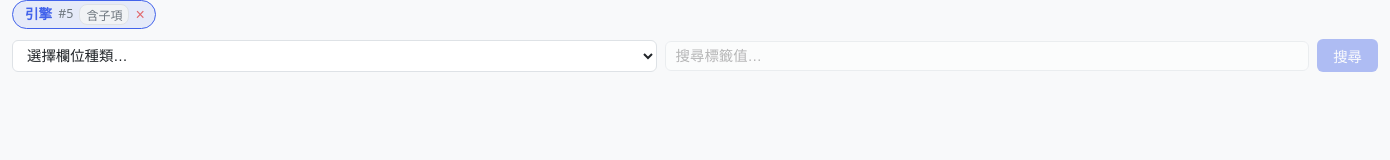
Test: SearchFilterBar › prevents adding exact duplicate filter
Later steps or results of the test are not shown.
Select "引擎" in the dropdown named "選擇欄位種類" at (334, 56), box 12,40 -> 657,72
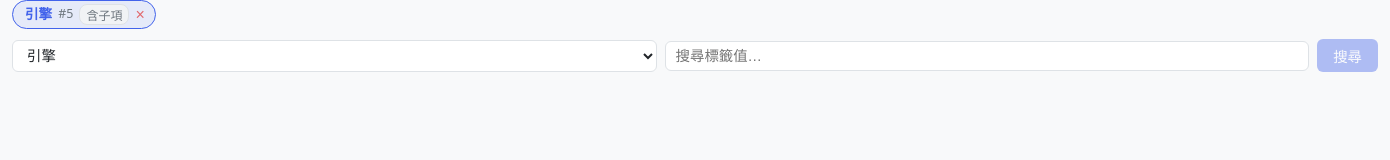
Type "引擎查詢" into the field labelled "搜尋標籤值" at (987, 56), box 665,40 -> 1309,70
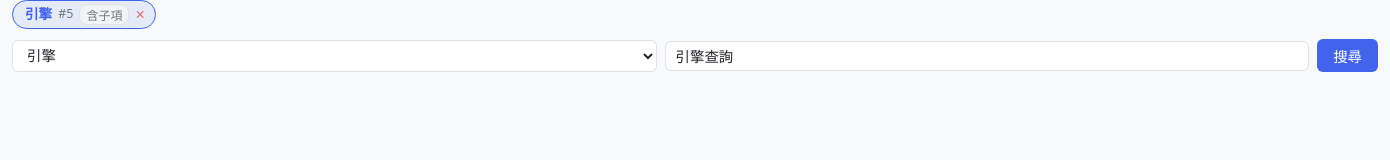
Click the button "搜尋" at (1348, 56), box 1317,39 -> 1378,72
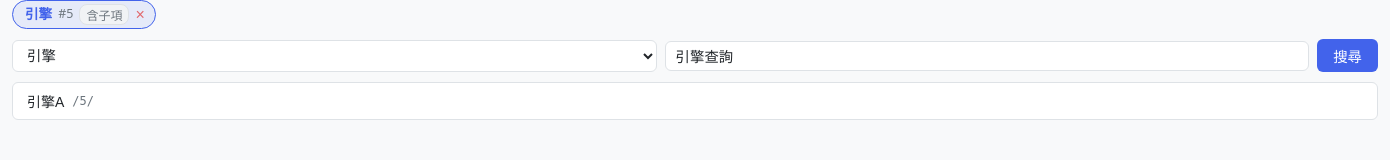
Expected: the button "引擎A /5/" is shown, 13,83 -> 1377,119
